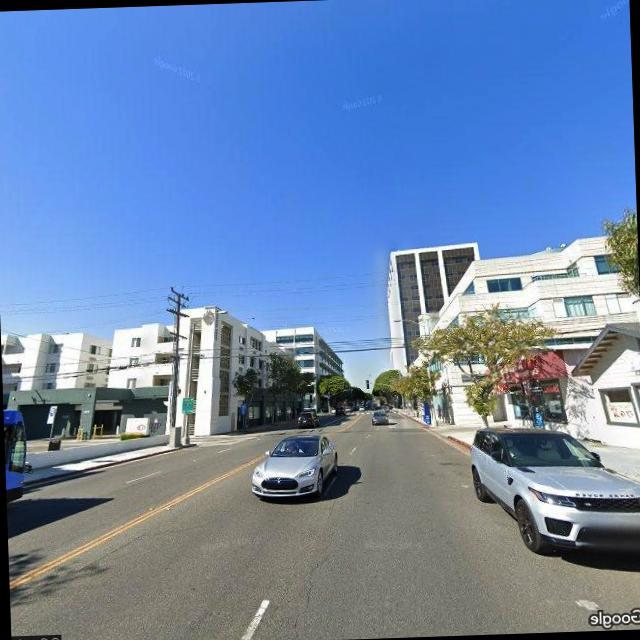pothole: (286, 559, 328, 640)
